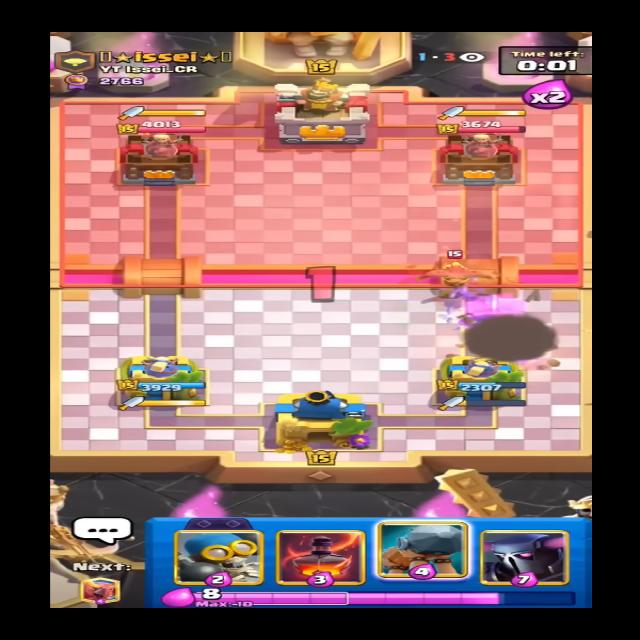Pheonix: (414, 251, 504, 289)
